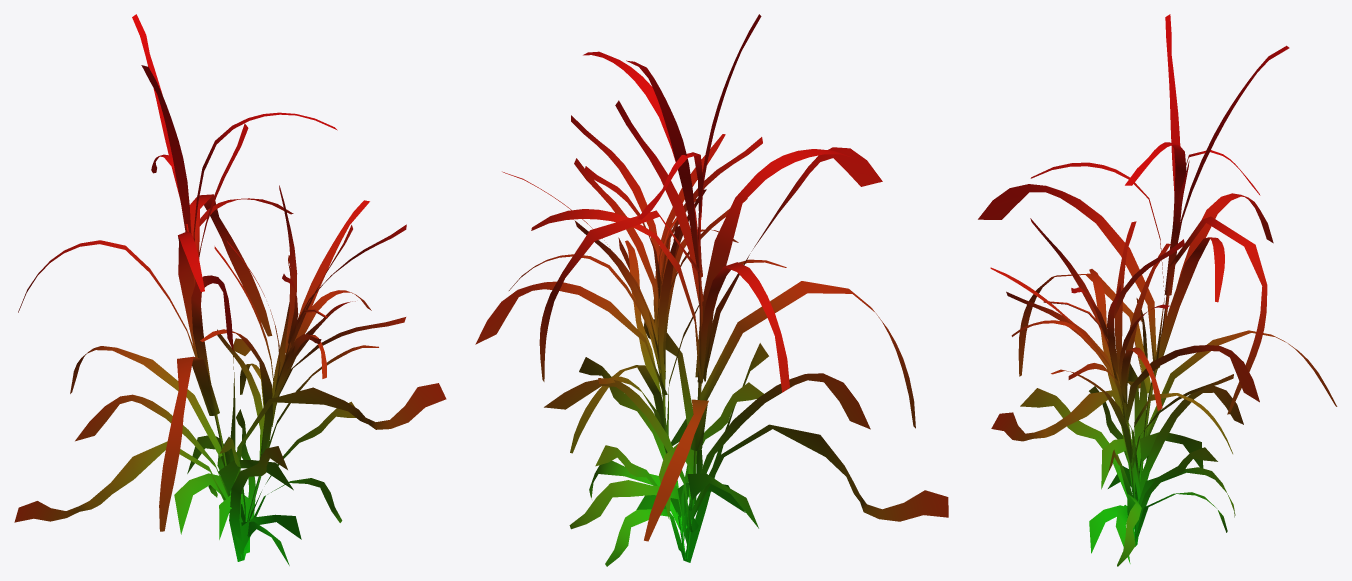
The model's file is tkbidaxia_Var7_LOD0.fbx.
3 renders of one model, left to right at view 1: azimuth 30°, elevation 25°; view 2: azimuth 150°, elevation 25°; view 3: azimuth 270°, elevation 25°, orthographic. The views are drawn at different scales.
Visible parts, largest first — view 1: _f3f6_Var7_LOD0; view 2: _f3f6_Var7_LOD0; view 3: _f3f6_Var7_LOD0.
Boxes of the visible parts, x1,y1,x2,y2 form: _f3f6_Var7_LOD0: (14, 14, 446, 565); _f3f6_Var7_LOD0: (475, 14, 948, 566); _f3f6_Var7_LOD0: (978, 14, 1337, 566).
Bounding box in the file's own units: 32.56 × 42.2 × 27.93.
